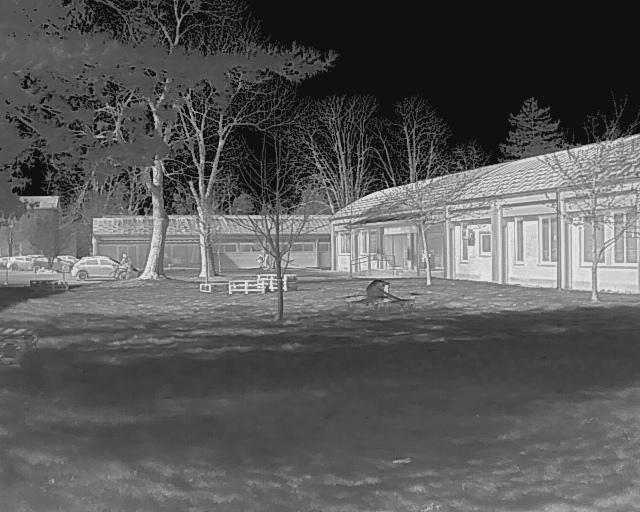drone: (333, 270, 430, 324)
